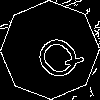Q: (25, 25, 87, 86)
